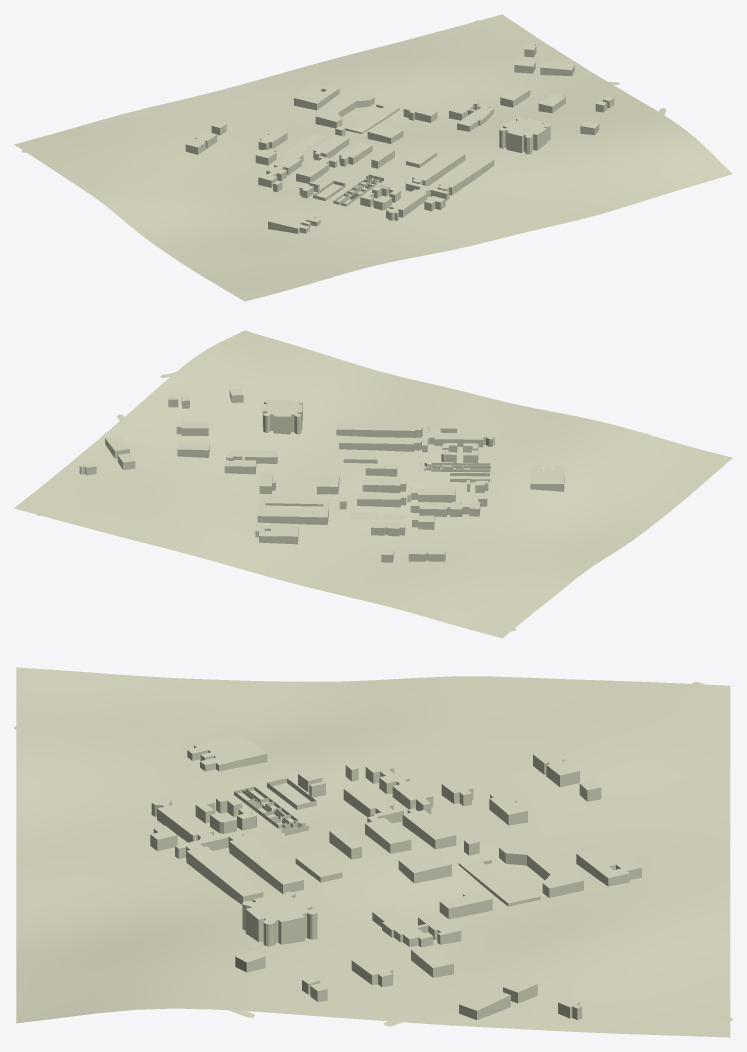
File: PROYECTO_Campus_Virtual_EXACTAS.fbx
3 views of the same model, one above another, from view 1: azimuth 30°, elevation 25°; view 2: azimuth 150°, elevation 25°; view 3: azimuth 270°, elevation 25° (orthographic). The views are drawn at different scales.
Parts seen in each view (by area): view 1: CAMPUS, Biblioteca, Group4, Aulas_comunes_2, Aulas_Comunes_3, CIVETAN__Veterinaria_, Humanas, Gimnasio, Econ_micas, SAMP__Veterinarias_, IFAS__Instituto_de_F_sica_, Group46 (+7 smaller); view 2: CAMPUS, Biblioteca, Group4, Humanas, Econ_micas, Aulas_Comunes_3, CIVETAN__Veterinaria_, Aulas_comunes_2, IFAS__Instituto_de_F_sica_, Gimnasio, SAMP__Veterinarias_, Group46 (+6 smaller); view 3: CAMPUS, Biblioteca, Group4, Aulas_Comunes_3, CIVETAN__Veterinaria_, Aulas_comunes_2, Econ_micas, Humanas, Gimnasio, SAMP__Veterinarias_, IFAS__Instituto_de_F_sica_, Group46 (+23 smaller).
Boxes of the visible parts, bbox=[...] form: CAMPUS: bbox=[14, 14, 732, 301]; Biblioteca: bbox=[499, 117, 550, 154]; Group4: bbox=[240, 160, 517, 276]; Aulas_comunes_2: bbox=[386, 181, 449, 220]; Aulas_Comunes_3: bbox=[315, 91, 374, 128]; CIVETAN__Veterinaria_: bbox=[449, 99, 493, 131]; Humanas: bbox=[437, 156, 494, 195]; Gimnasio: bbox=[268, 209, 320, 233]; Econ_micas: bbox=[412, 150, 465, 186]; SAMP__Veterinarias_: bbox=[294, 84, 339, 110]; IFAS__Instituto_de_F_sica_: bbox=[258, 153, 303, 187]; Group46: bbox=[113, 106, 171, 201]; CAMPUS: bbox=[14, 330, 732, 638]; Biblioteca: bbox=[262, 399, 302, 434]; Group4: bbox=[324, 417, 674, 479]; Humanas: bbox=[336, 423, 422, 437]; Econ_micas: bbox=[339, 436, 422, 451]; Aulas_Comunes_3: bbox=[257, 505, 328, 524]; CIVETAN__Veterinaria_: bbox=[224, 450, 277, 474]; Aulas_comunes_2: bbox=[422, 425, 494, 452]; IFAS__Instituto_de_F_sica_: bbox=[410, 502, 480, 516]; Gimnasio: bbox=[530, 465, 564, 491]; SAMP__Veterinarias_: bbox=[255, 524, 298, 544]; Group46: bbox=[354, 562, 581, 595]; CAMPUS: bbox=[16, 667, 730, 1037]; Biblioteca: bbox=[242, 891, 317, 946]; Group4: bbox=[95, 694, 242, 915]; Aulas_Comunes_3: bbox=[499, 840, 583, 897]; CIVETAN__Veterinaria_: bbox=[372, 907, 461, 947]; Aulas_comunes_2: bbox=[151, 798, 243, 858]; Econ_micas: bbox=[228, 834, 303, 894]; Humanas: bbox=[186, 843, 263, 904]; Gimnasio: bbox=[187, 734, 267, 771]; SAMP__Veterinarias_: bbox=[576, 845, 641, 886]; IFAS__Instituto_de_F_sica_: bbox=[365, 762, 433, 813]; Group46: bbox=[452, 683, 720, 794].
Bounding box in the file's own units: 675 × 44.8 × 544.
